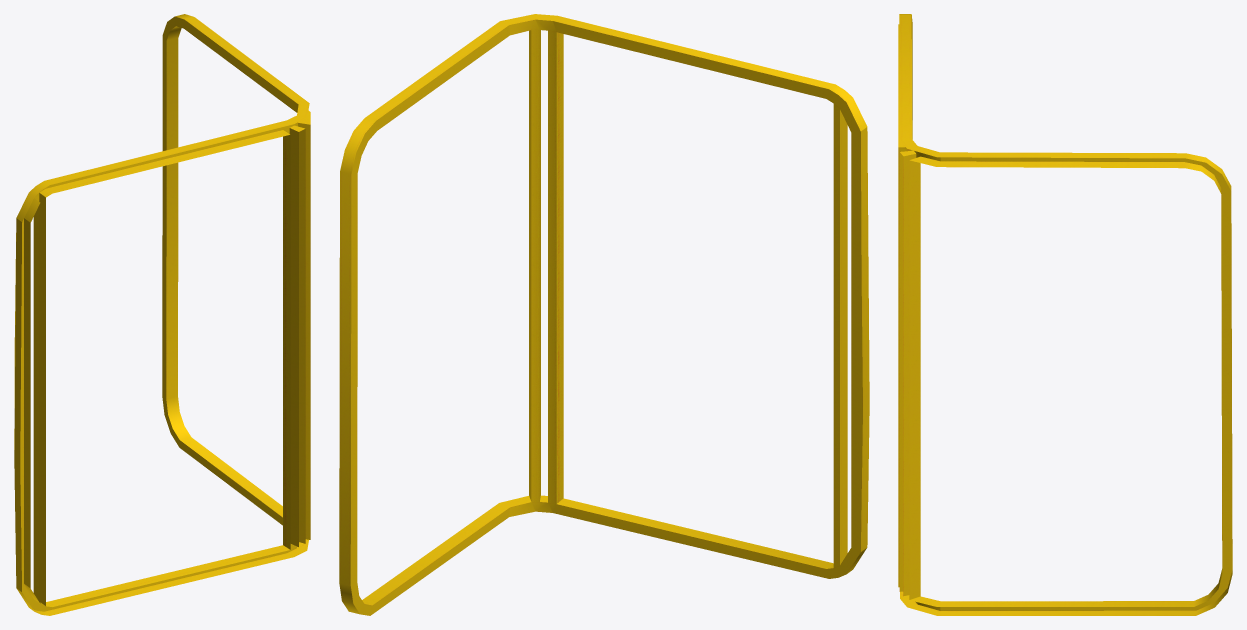
Rendered from nt_2020_car_wash_frame_LOD1.obj.
3 renders of one model, left to right at view 1: azimuth 30°, elevation 25°; view 2: azimuth 150°, elevation 25°; view 3: azimuth 270°, elevation 25°, orthographic. The views are drawn at different scales.
Visible parts, largest first — view 1: metal_yellow_trim_01; view 2: metal_yellow_trim_01; view 3: metal_yellow_trim_01.
Boxes of the visible parts, x1,y1,x2,y2 form: metal_yellow_trim_01: [14, 14, 310, 615]; metal_yellow_trim_01: [339, 14, 869, 615]; metal_yellow_trim_01: [898, 14, 1232, 615].
Bounding box in the file's own units: 385 × 513 × 339.
